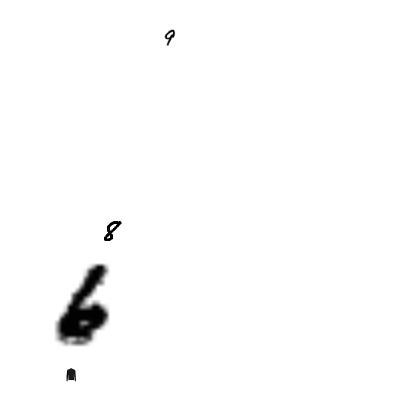6: (24, 253, 136, 365)
8: (97, 216, 125, 244)
9: (159, 25, 181, 47)
Pullover: (64, 368, 78, 382)
